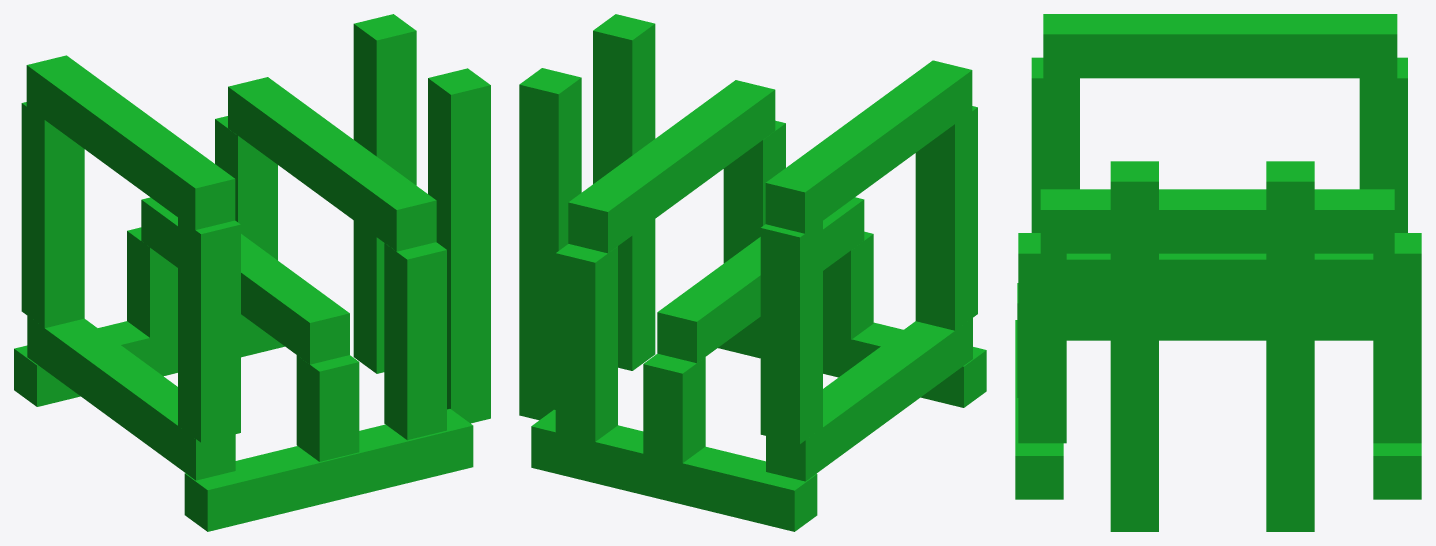
The model's file is Dynamic_1kg_0_5friction.fbx.
3 views of the same model, side by side, from view 1: azimuth 30°, elevation 25°; view 2: azimuth 150°, elevation 25°; view 3: azimuth 270°, elevation 25° (orthographic). The views are drawn at different scales.
Visible parts, largest first — view 1: D1DynamicBox13, D1DynamicBox2, D1DynamicBox12, D1DynamicBox5, D1DynamicBox14, D1DynamicBox11, D1DynamicBox3, D1DynamicBox10, D1DynamicBox9, D1DynamicBox4, D1DynamicBox7, D1DynamicBox1 (+2 smaller); view 2: D1DynamicBox14, D1DynamicBox1, D1DynamicBox12, D1DynamicBox5, D1DynamicBox13, D1DynamicBox10, D1DynamicBox3, D1DynamicBox11, D1DynamicBox8, D1DynamicBox4, D1DynamicBox6, D1DynamicBox2 (+2 smaller); view 3: D1DynamicBox12, D1DynamicBox13, D1DynamicBox14, D1DynamicBox5, D1DynamicBox4, D1DynamicBox8, D1DynamicBox9, D1DynamicBox3, D1DynamicBox10, D1DynamicBox11, D1DynamicBox2, D1DynamicBox1.
Boxes of the visible parts, x1=… form: D1DynamicBox13: x1=428, y1=68, x2=490, y2=423; D1DynamicBox2: x1=184, y1=409, x2=473, y2=531; D1DynamicBox12: x1=26, y1=55, x2=235, y2=229; D1DynamicBox5: x1=228, y1=77, x2=436, y2=251; D1DynamicBox14: x1=353, y1=14, x2=416, y2=373; D1DynamicBox11: x1=178, y1=217, x2=240, y2=442; D1DynamicBox3: x1=27, y1=316, x2=235, y2=480; D1DynamicBox10: x1=21, y1=102, x2=84, y2=327; D1DynamicBox9: x1=384, y1=242, x2=446, y2=440; D1DynamicBox4: x1=141, y1=197, x2=349, y2=364; D1DynamicBox7: x1=296, y1=355, x2=359, y2=461; D1DynamicBox1: x1=14, y1=315, x2=284, y2=406; D1DynamicBox14: x1=519, y1=68, x2=581, y2=420; D1DynamicBox1: x1=531, y1=409, x2=817, y2=531; D1DynamicBox12: x1=765, y1=60, x2=972, y2=233; D1DynamicBox5: x1=568, y1=80, x2=775, y2=253; D1DynamicBox13: x1=593, y1=14, x2=655, y2=370; D1DynamicBox10: x1=760, y1=221, x2=822, y2=443; D1DynamicBox3: x1=766, y1=318, x2=972, y2=481; D1DynamicBox11: x1=915, y1=106, x2=977, y2=330; D1DynamicBox8: x1=555, y1=244, x2=617, y2=441; D1DynamicBox4: x1=657, y1=197, x2=864, y2=363; D1DynamicBox6: x1=643, y1=353, x2=705, y2=463; D1DynamicBox2: x1=718, y1=318, x2=986, y2=407; D1DynamicBox12: x1=1043, y1=14, x2=1397, y2=78; D1DynamicBox13: x1=1110, y1=161, x2=1158, y2=531; D1DynamicBox14: x1=1266, y1=161, x2=1314, y2=531; D1DynamicBox5: x1=1040, y1=189, x2=1394, y2=253; D1DynamicBox4: x1=1066, y1=253, x2=1373, y2=303; D1DynamicBox8: x1=1373, y1=233, x2=1421, y2=443; D1DynamicBox9: x1=1018, y1=233, x2=1066, y2=443; D1DynamicBox3: x1=1066, y1=303, x2=1373, y2=340; D1DynamicBox10: x1=1359, y1=57, x2=1407, y2=232; D1DynamicBox11: x1=1031, y1=57, x2=1079, y2=232; D1DynamicBox2: x1=1015, y1=320, x2=1063, y2=499; D1DynamicBox1: x1=1373, y1=443, x2=1421, y2=499.
Size of what is drawn, in the model's own units: 24.74 by 24 by 25.25.
